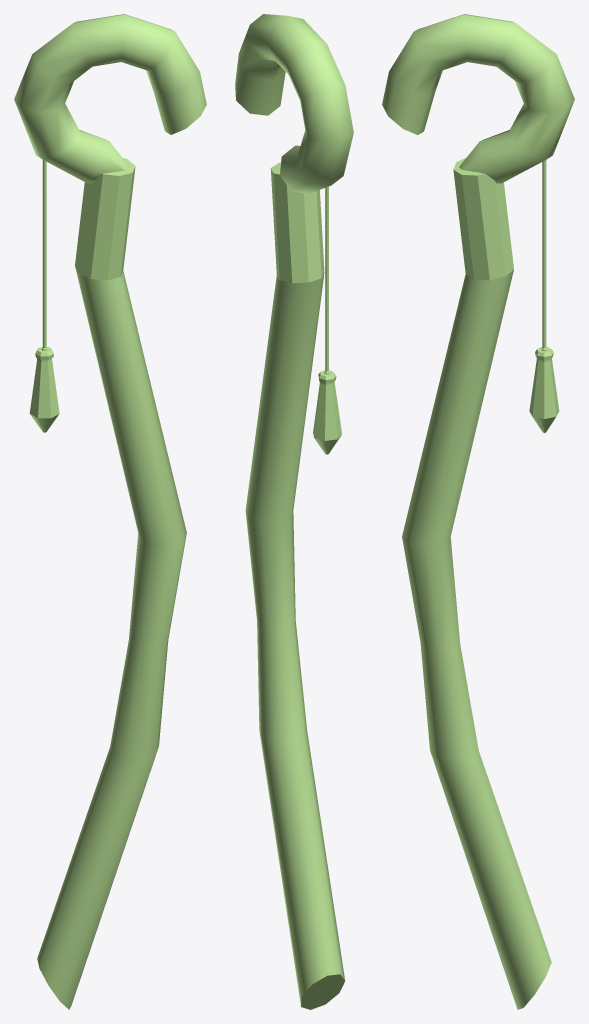
Rendered from protawand.glb.
3 views of the same model, side by side, from view 1: azimuth 90°, elevation 25°; view 2: azimuth 210°, elevation 25°; view 3: azimuth 270°, elevation 25° (orthographic).
Visible parts, largest first — view 1: Torus001; view 2: Torus001; view 3: Torus001.
Part boxes in pixels (bbox=[...]): Torus001: bbox=[14, 14, 206, 1009]; Torus001: bbox=[235, 14, 353, 1009]; Torus001: bbox=[382, 14, 574, 1009].
Bounding box in the file's own units: 0.0195 × 0.4172 × 0.0735.
